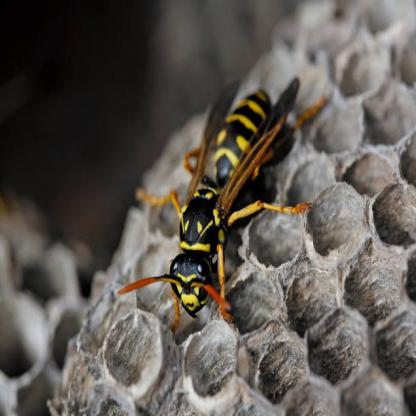other: (122, 76, 318, 334)
